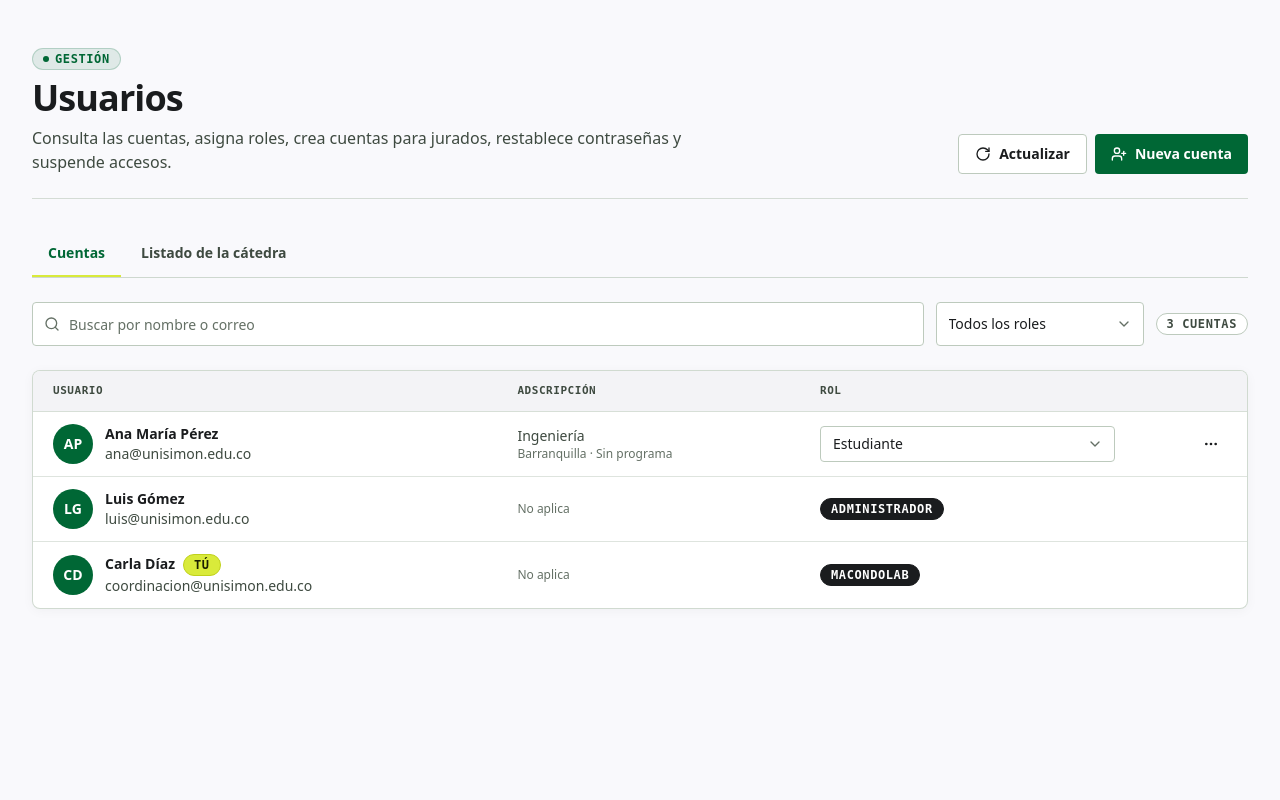
it: Nueva cuenta › sugiere jurado sin adscripción y la pide al elegir profesor
The width and height of the screenshot is (1280, 800).
Click the button "Nueva cuenta" at (1172, 154), box [1095,134,1248,174]
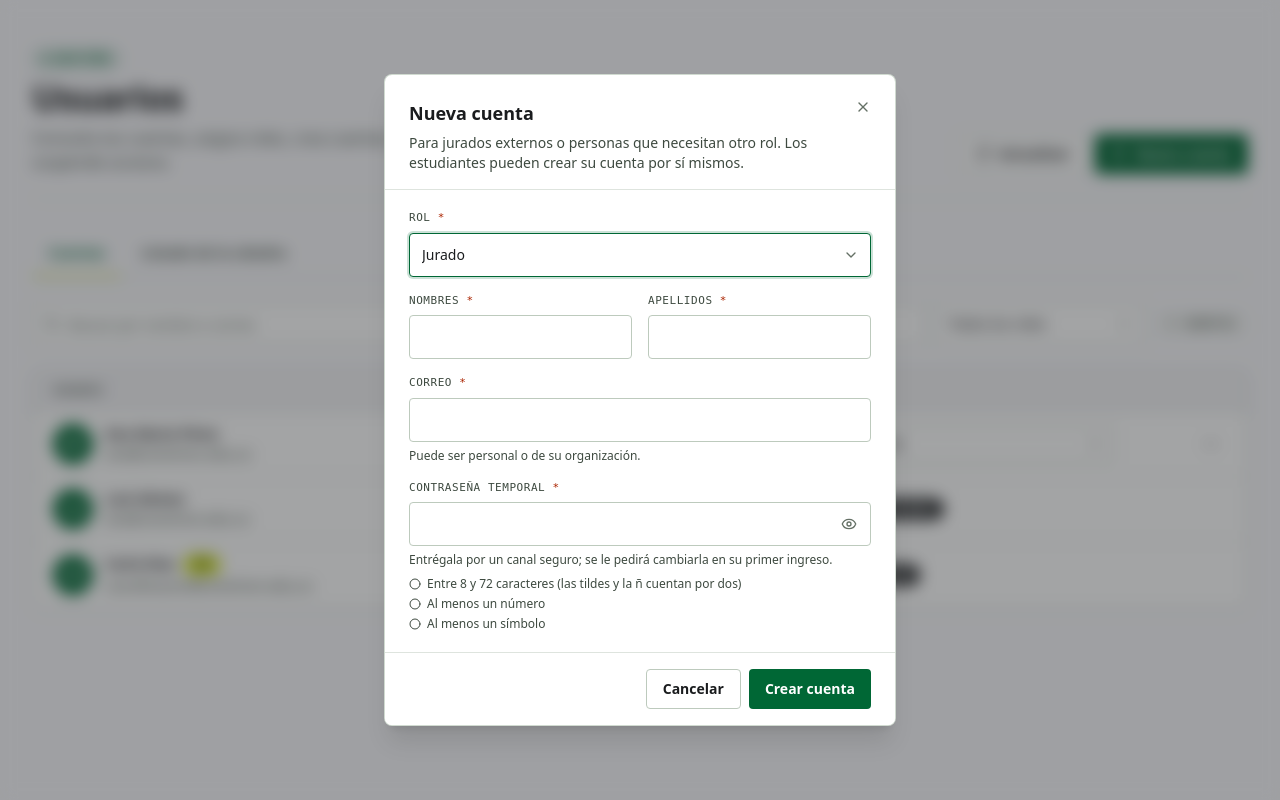
Expected: the text "Adscripción académica" is not shown
Now the dropdown labelled "Rol *" shows "Jurado"
Now the text "Puede ser personal o de su organización." is shown, box [409,446,641,464]
Select "Profesor" in the dropdown labelled "Rol *" at (640, 254), box [409,232,871,276]
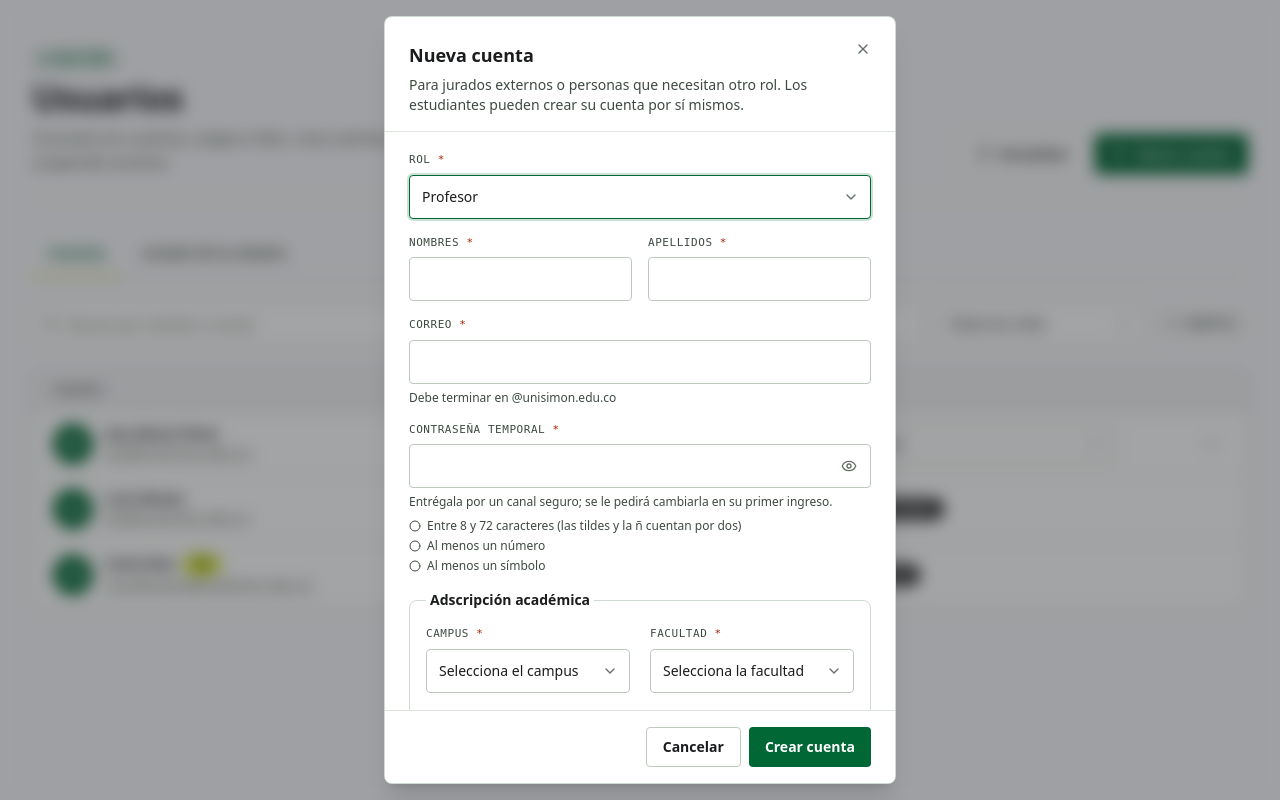
Now the text "Adscripción académica" is shown, box [426,590,594,610]
Now the text "Debe terminar en @unisimon.edu.co" is shown, box [409,388,616,406]
